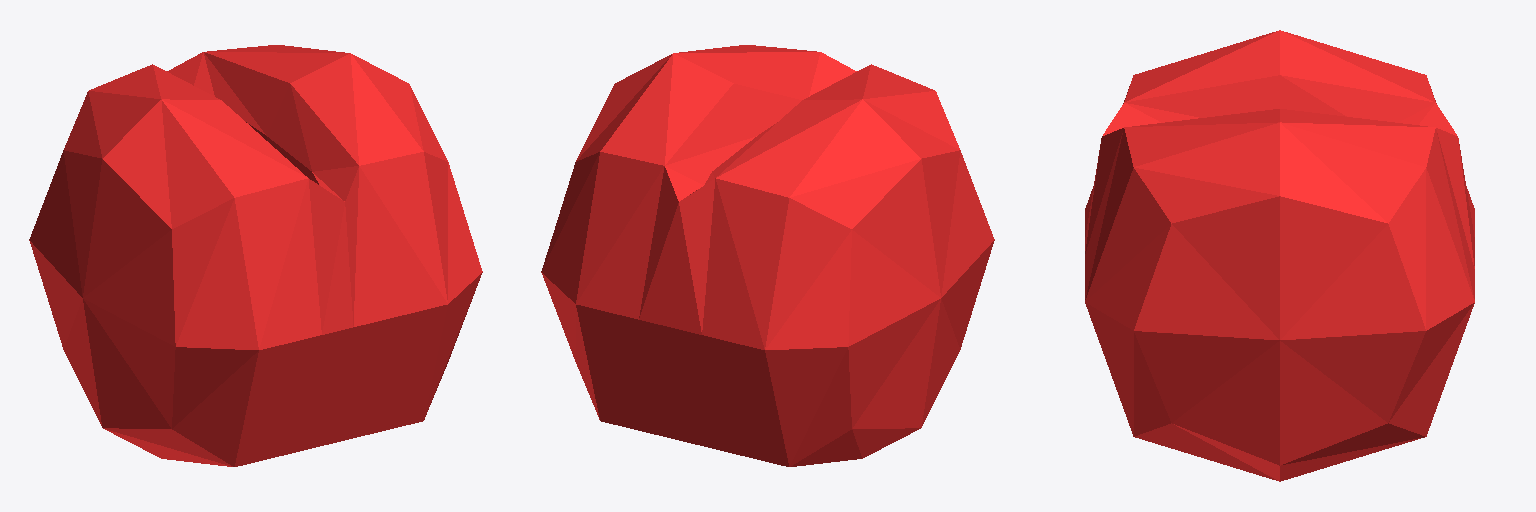
Rendered from Apple.obj.
3 renders of one model, left to right at view 1: azimuth 30°, elevation 25°; view 2: azimuth 150°, elevation 25°; view 3: azimuth 270°, elevation 25°, orthographic.
Visible parts, largest first — view 1: Cube2; view 2: Cube2; view 3: Cube2.
Boxes of the visible parts, x1,y1,x2,y2 form: Cube2: [29, 45, 482, 466]; Cube2: [541, 45, 994, 466]; Cube2: [1085, 30, 1474, 481].
Size of the model in its own units: 6.61 by 6.56 by 6.45.